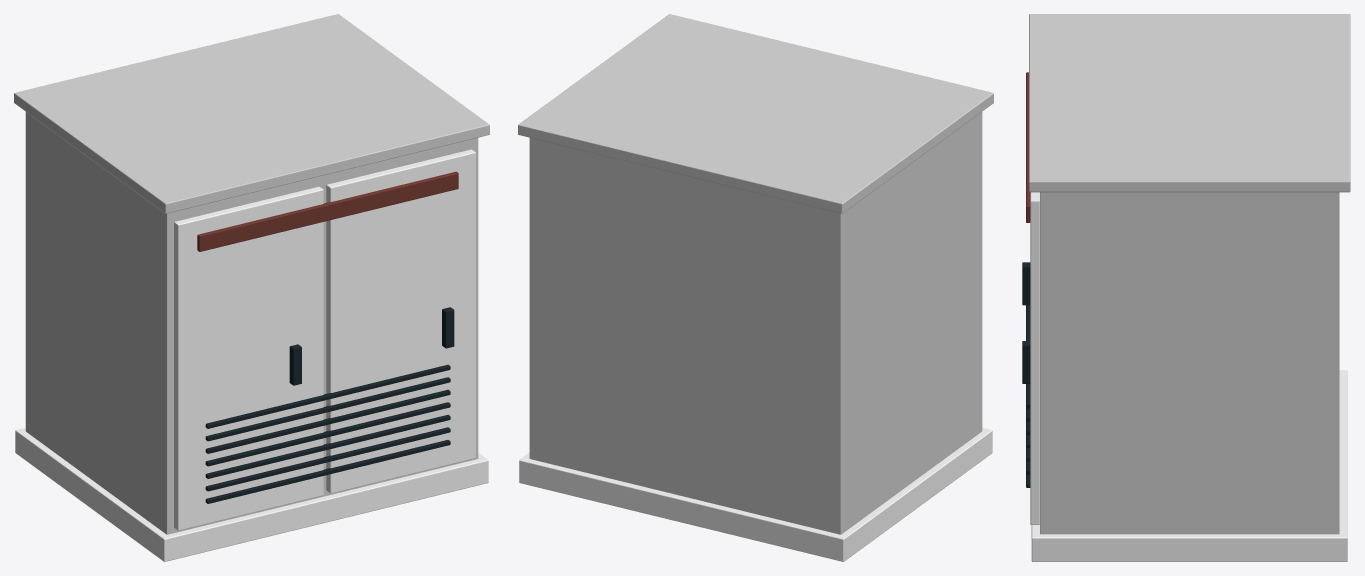
Rendered from B07_SERVICE_CABINET.glb.
The picture shows the model from 3 angles, left to right: view 1: azimuth 30°, elevation 25°; view 2: azimuth 150°, elevation 25°; view 3: azimuth 270°, elevation 25°; orthographic projection. The views are drawn at different scales.
Visible parts, largest first — view 1: B07_SERVICE_CABINET; view 2: B07_SERVICE_CABINET; view 3: B07_SERVICE_CABINET.
Boxes of the visible parts, bbox=[...] form: B07_SERVICE_CABINET: bbox=[14, 14, 489, 561]; B07_SERVICE_CABINET: bbox=[518, 14, 993, 561]; B07_SERVICE_CABINET: bbox=[1022, 14, 1350, 561].
Bounding box in the file's own units: 2.94 × 3.11 × 2.43.
